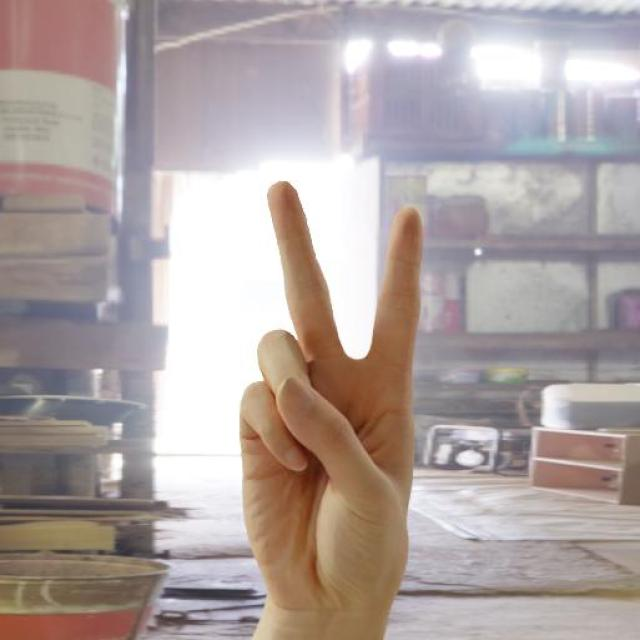V: (236, 177, 430, 614)
